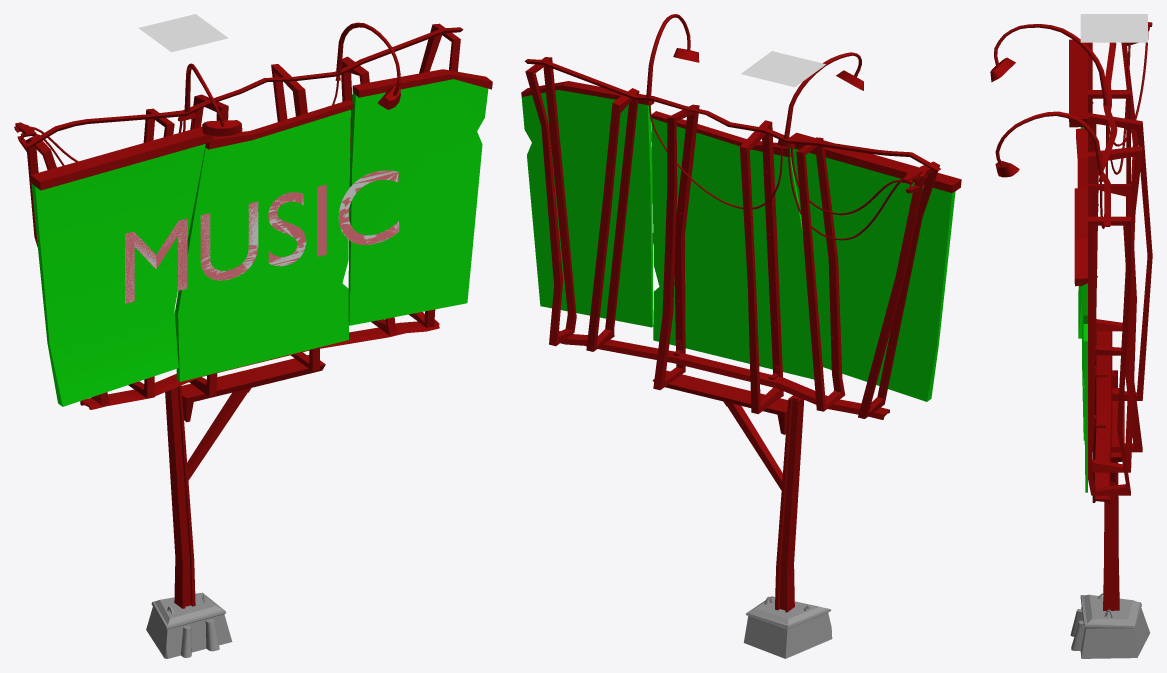
The model's file is billboard park-test.glb.
3 views of the same model, side by side, from view 1: azimuth 30°, elevation 25°; view 2: azimuth 150°, elevation 25°; view 3: azimuth 270°, elevation 25° (orthographic). The views are drawn at different scales.
Parts seen in each view (by area): view 1: SM_BillboardPark_Main, MUSIC, SM_BillboardPark_Base, Projects, Plane; view 2: SM_BillboardPark_Main, SM_BillboardPark_Base, Plane; view 3: SM_BillboardPark_Main, SM_BillboardPark_Base, Plane.
Boxes of the visible parts, x1=… form: SM_BillboardPark_Main: x1=14, y1=22, x2=492, y2=608; MUSIC: x1=125, y1=170, x2=399, y2=303; SM_BillboardPark_Base: x1=146, y1=592, x2=232, y2=658; Projects: x1=125, y1=170, x2=399, y2=303; Plane: x1=138, y1=14, x2=228, y2=52; SM_BillboardPark_Main: x1=521, y1=14, x2=961, y2=612; SM_BillboardPark_Base: x1=743, y1=596, x2=832, y2=658; Plane: x1=741, y1=51, x2=825, y2=87; SM_BillboardPark_Main: x1=990, y1=22, x2=1152, y2=610; SM_BillboardPark_Base: x1=1070, y1=593, x2=1149, y2=658; Plane: x1=1080, y1=14, x2=1147, y2=42.
Bounding box in the file's own units: 15.84 × 20.09 × 4.81.
